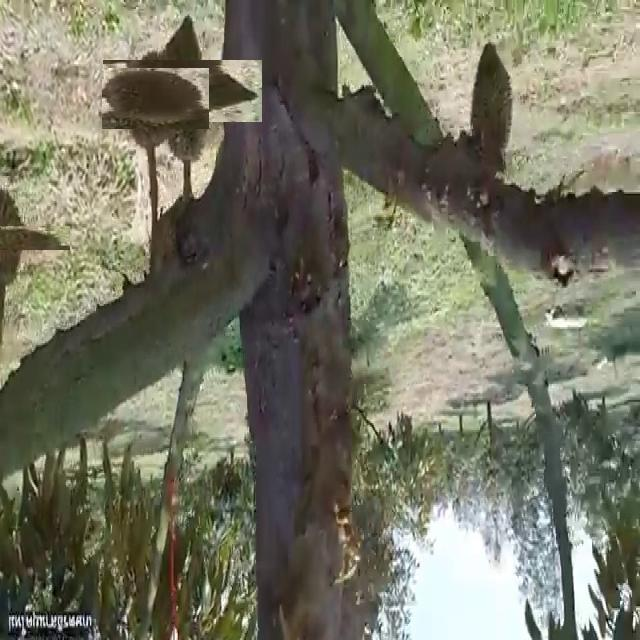durian: (127, 36, 239, 146), (113, 56, 198, 140), (468, 40, 513, 174), (0, 204, 48, 273)
